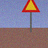sign: (21, 0, 40, 37)
